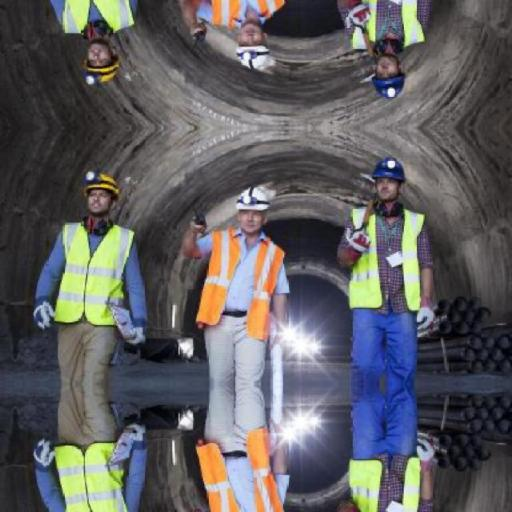helmet: (74, 164, 127, 202), (228, 181, 278, 219), (363, 151, 414, 187)
vest: (336, 201, 436, 318), (46, 216, 142, 332), (190, 228, 288, 338), (45, 422, 142, 512), (196, 435, 294, 512), (340, 442, 446, 512), (40, 0, 143, 43), (340, 6, 424, 45)
